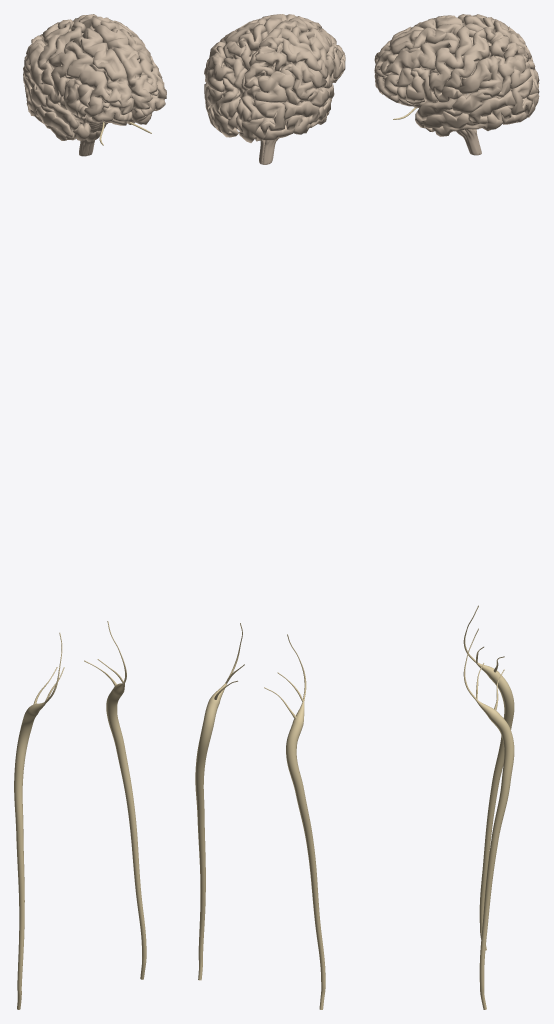
File: nerve.glb
The picture shows the model from 3 angles, left to right: view 1: azimuth 30°, elevation 25°; view 2: azimuth 150°, elevation 25°; view 3: azimuth 270°, elevation 25°; orthographic projection.
Visible parts, largest first — view 1: brain_r, brain_l, sciatic_r, sciatic_l, brainstem; view 2: brain_r, brain_l, sciatic_r, sciatic_l, brainstem; view 3: brain_l, sciatic_l, sciatic_r, brain_r.
Part boxes in pixels (x1=…): brain_r: x1=23, y1=19, x2=133, y2=140; brain_l: x1=73, y1=14, x2=166, y2=124; sciatic_r: x1=14, y1=632, x2=64, y2=1009; sciatic_l: x1=84, y1=621, x2=146, y2=979; brainstem: x1=79, y1=121, x2=107, y2=156; brain_r: x1=236, y1=16, x2=345, y2=142; brain_l: x1=204, y1=14, x2=296, y2=137; sciatic_r: x1=264, y1=634, x2=325, y2=1009; sciatic_l: x1=195, y1=623, x2=244, y2=980; brainstem: x1=259, y1=138, x2=278, y2=164; brain_l: x1=374, y1=23, x2=539, y2=136; sciatic_l: x1=463, y1=628, x2=514, y2=1009; sciatic_r: x1=463, y1=605, x2=514, y2=950; brain_r: x1=374, y1=14, x2=539, y2=87.
Size of the model in its own units: 0.1595 by 1.16 by 0.1808.
